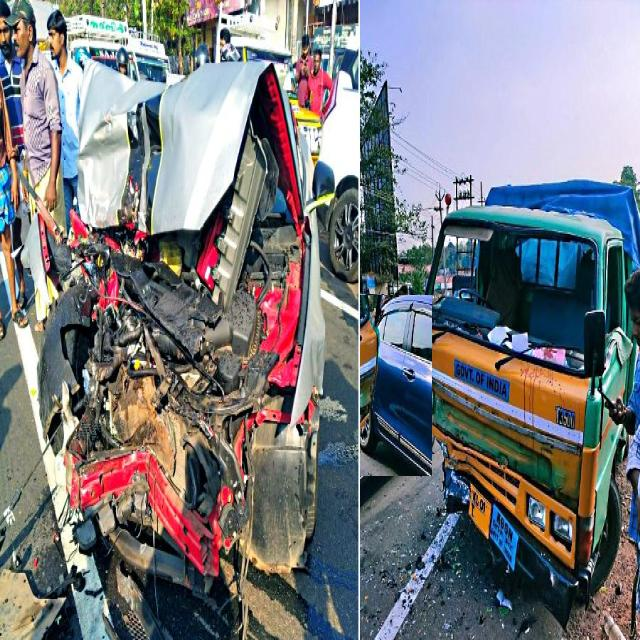accident: (18, 62, 325, 637), (415, 180, 640, 614)
car: (360, 296, 432, 476)
